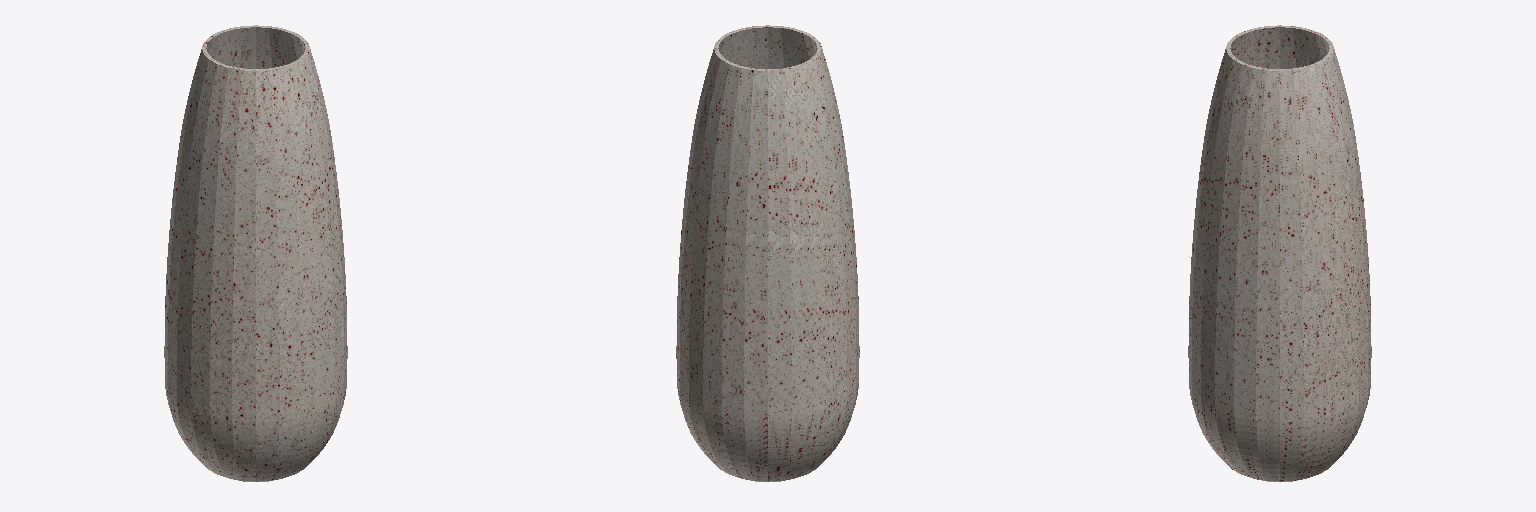
3 views of the same model, side by side, from view 1: azimuth 30°, elevation 25°; view 2: azimuth 150°, elevation 25°; view 3: azimuth 270°, elevation 25° (orthographic).
Visible parts, largest first — view 1: Mesh1 Anfora_1_1 Model; view 2: Mesh1 Anfora_1_1 Model; view 3: Mesh1 Anfora_1_1 Model.
Part boxes in pixels (x1,y1,x2,y2): Mesh1 Anfora_1_1 Model: (164,25,347,481); Mesh1 Anfora_1_1 Model: (676,25,859,481); Mesh1 Anfora_1_1 Model: (1188,25,1371,481).
Size of the model in its own units: 0.084 by 0.2104 by 0.084.
Materials: 1 (1 with a texture image).